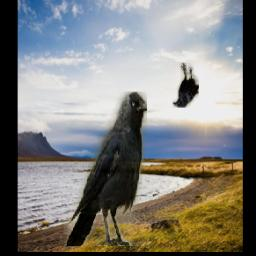Crow: (64, 93, 147, 247), (172, 64, 199, 109)
